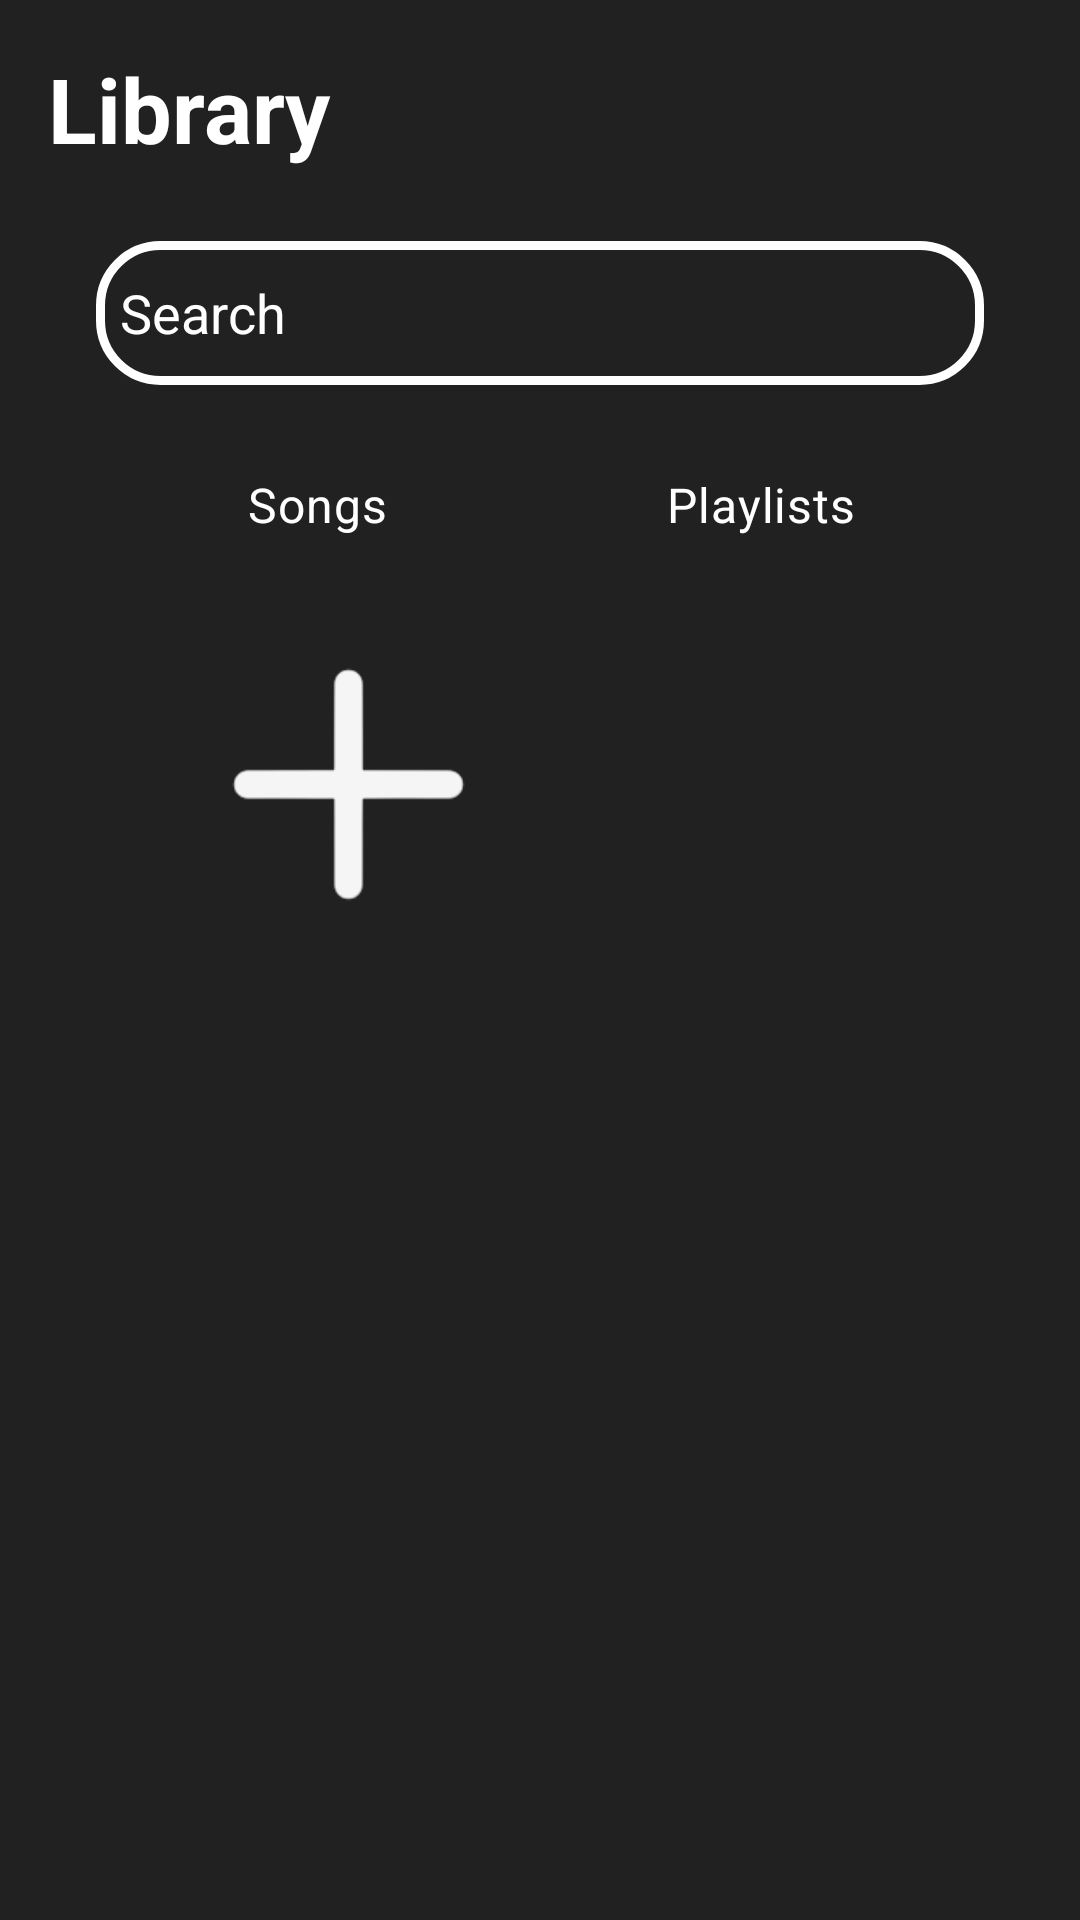

Icon click points for this 1080px x 1920px phone screenshot, format [x,y]:
plus: [348,784]
